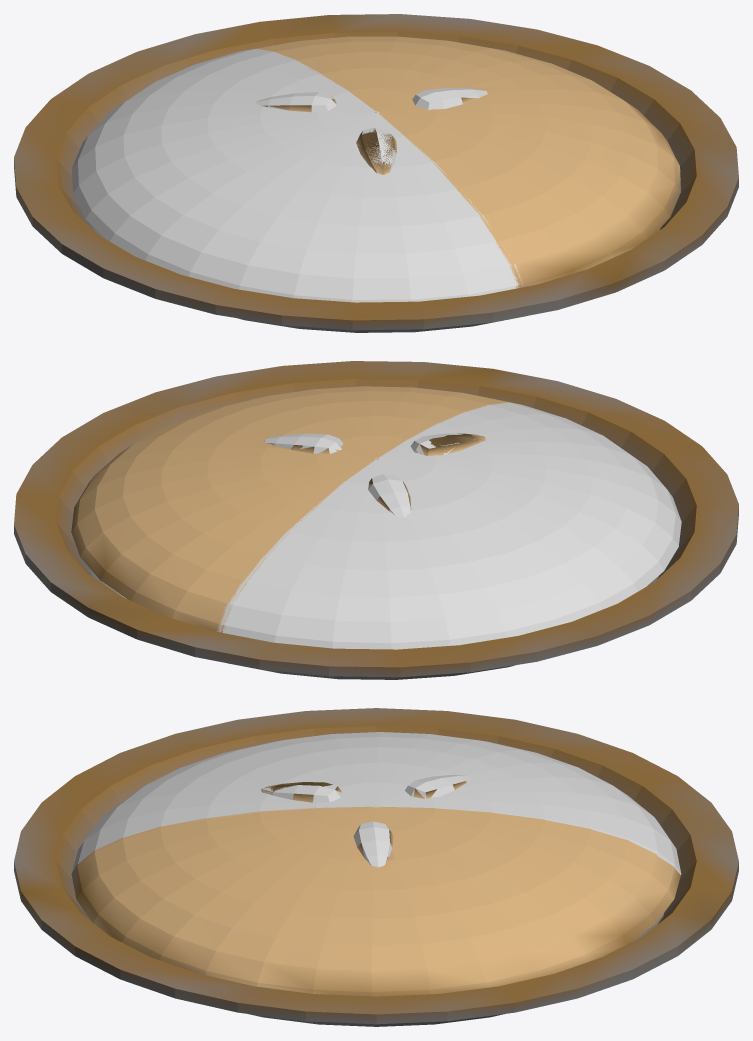
Rendered from pie.fbx.
The picture shows the model from 3 angles, top to bottom: view 1: azimuth 30°, elevation 25°; view 2: azimuth 150°, elevation 25°; view 3: azimuth 270°, elevation 25°; orthographic projection.
Parts seen in each view (by area): view 1: Circle, Sphere, Cube, Cube.002, Cube.001; view 2: Circle, Sphere, Cube.002, Cube; view 3: Circle, Sphere, Cube, Cube.001, Cube.002.
Part boxes in pixels (left/top/right/bottom): Circle: left=14, top=14, right=738, bottom=332; Sphere: left=72, top=49, right=522, bottom=302; Cube: left=412, top=88, right=487, bottom=109; Cube.002: left=255, top=92, right=336, bottom=112; Cube.001: left=356, top=127, right=396, bottom=174; Circle: left=14, top=361, right=738, bottom=679; Sphere: left=103, top=402, right=681, bottom=649; Cube.002: left=368, top=474, right=411, bottom=517; Cube: left=264, top=433, right=343, bottom=453; Circle: left=14, top=708, right=738, bottom=1026; Sphere: left=72, top=732, right=681, bottom=941; Cube: left=353, top=821, right=392, bottom=867; Cube.001: left=261, top=785, right=341, bottom=802; Cube.002: left=405, top=775, right=471, bottom=798.
Bounding box in the file's own units: 200 × 31.3 × 200.
